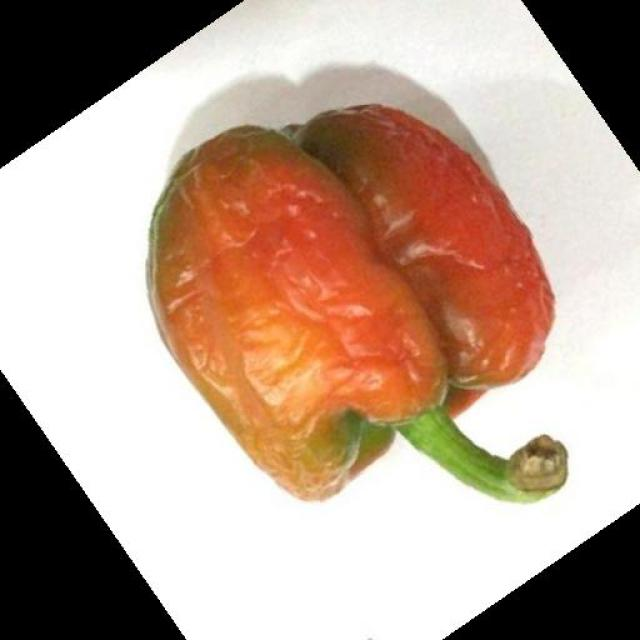Stale_Capsicum: (118, 84, 600, 562)
